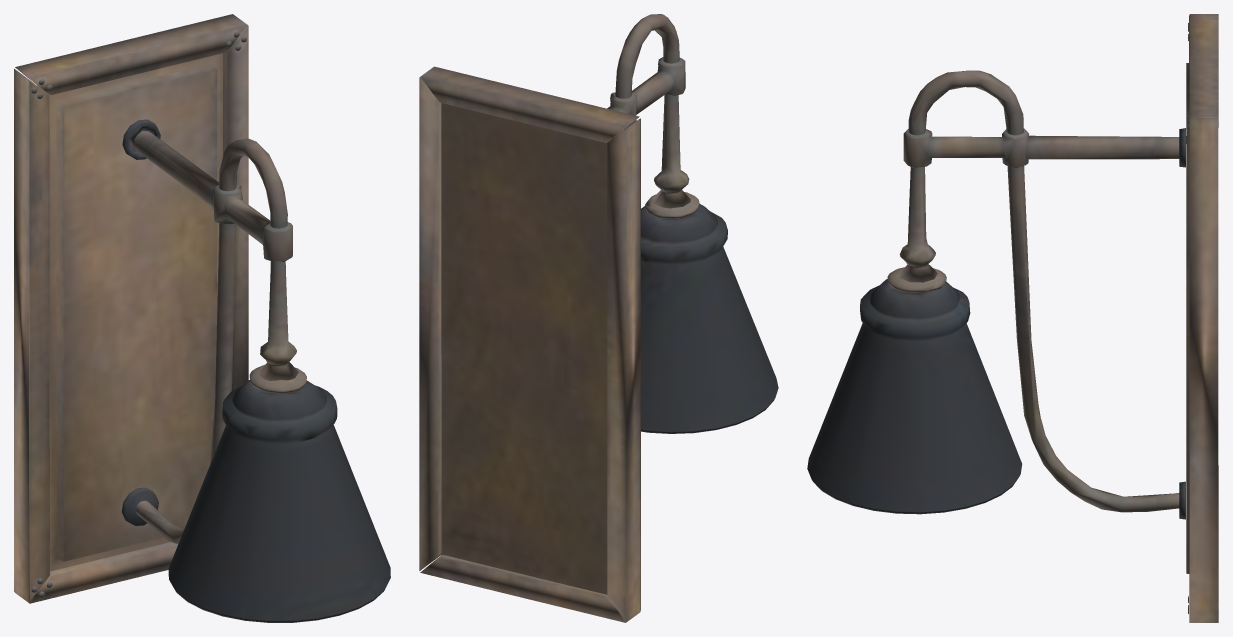
File: ph_sconce.glb
3 views of the same model, side by side, from view 1: azimuth 30°, elevation 25°; view 2: azimuth 150°, elevation 25°; view 3: azimuth 270°, elevation 25° (orthographic). The views are drawn at different scales.
Visible parts, largest first — view 1: industrial_wall_sconce; view 2: industrial_wall_sconce; view 3: industrial_wall_sconce.
Boxes of the visible parts, <box> form: industrial_wall_sconce: <box>14,14,390,622</box>; industrial_wall_sconce: <box>419,14,778,622</box>; industrial_wall_sconce: <box>807,14,1218,622</box>.
Bounding box in the file's own units: 0.1494 × 0.3413 × 0.2513.
Materials: 2 (2 with a texture image).
